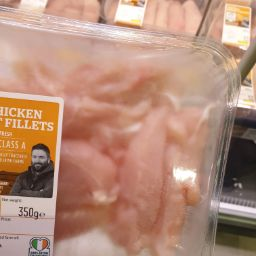Chicken Thigh Fillets: (7, 45, 182, 147), (75, 76, 165, 249), (124, 78, 207, 252)
